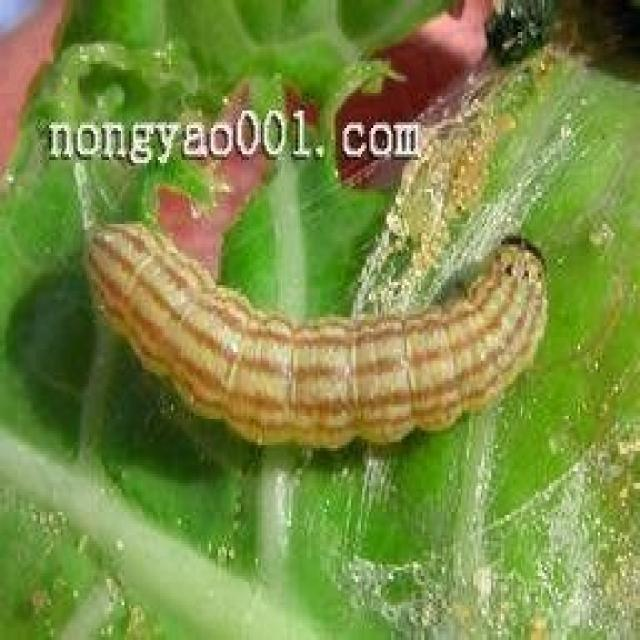peach borer: (85, 215, 554, 456)
